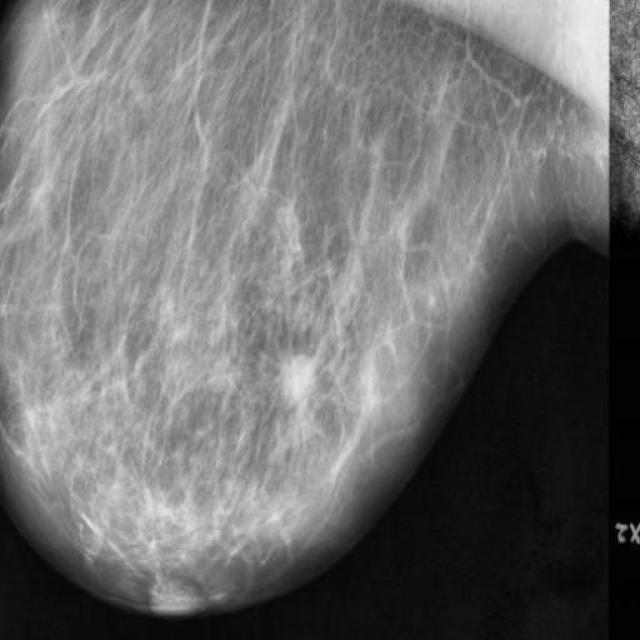cancer: (276, 342, 335, 428)
